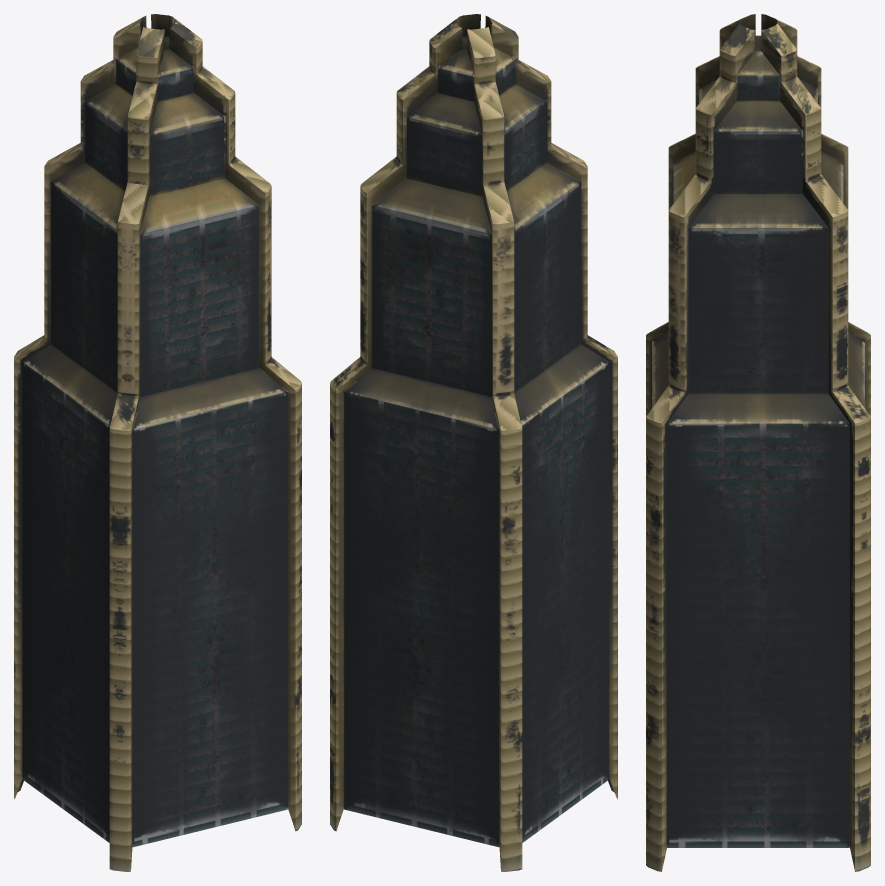
File: Building8_01.fbx
3 views of the same model, side by side, from view 1: azimuth 30°, elevation 25°; view 2: azimuth 150°, elevation 25°; view 3: azimuth 270°, elevation 25° (orthographic).
Parts seen in each view (by area): view 1: pCube73; view 2: pCube73; view 3: pCube73.
Part boxes in pixels (x1=…): pCube73: x1=14, y1=14, x2=301, y2=871; pCube73: x1=330, y1=14, x2=617, y2=871; pCube73: x1=646, y1=14, x2=870, y2=871.
Size of the model in its own units: 17.5 by 68.9 by 17.5.
